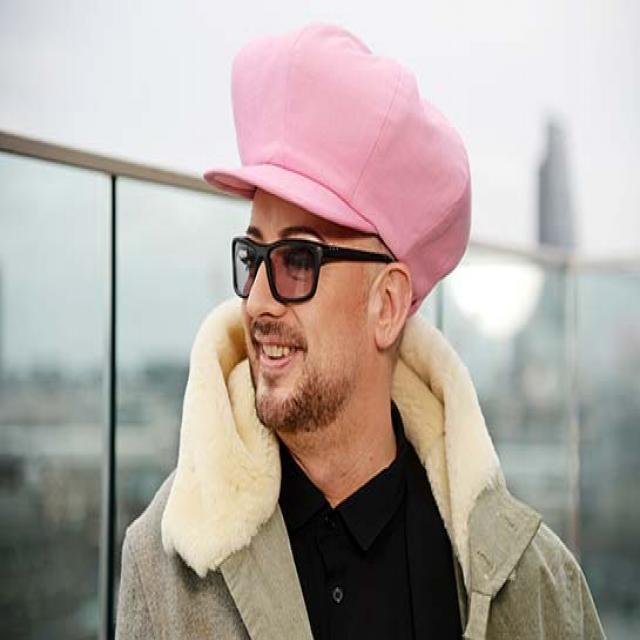hat: (219, 14, 485, 232)
